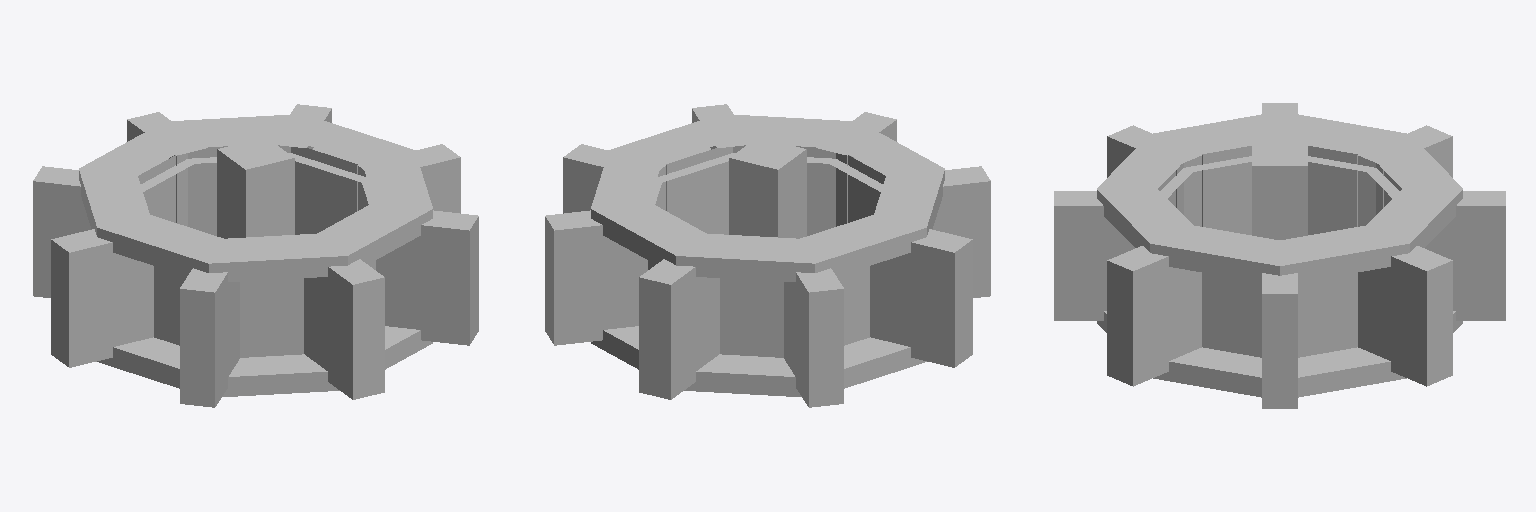
File: water_wheel.obj
3 views of the same model, side by side, from view 1: azimuth 30°, elevation 25°; view 2: azimuth 150°, elevation 25°; view 3: azimuth 270°, elevation 25° (orthographic).
Parts seen in each view (by area): view 1: Waterwheel_Big_Axle.007; view 2: Waterwheel_Big_Axle.007; view 3: Waterwheel_Big_Axle.007.
Part boxes in pixels (x1,y1,x2,y2): Waterwheel_Big_Axle.007: (33,104,478,407); Waterwheel_Big_Axle.007: (545,104,990,407); Waterwheel_Big_Axle.007: (1054,103,1505,408).
Bounding box in the file's own units: 2 × 1 × 2.